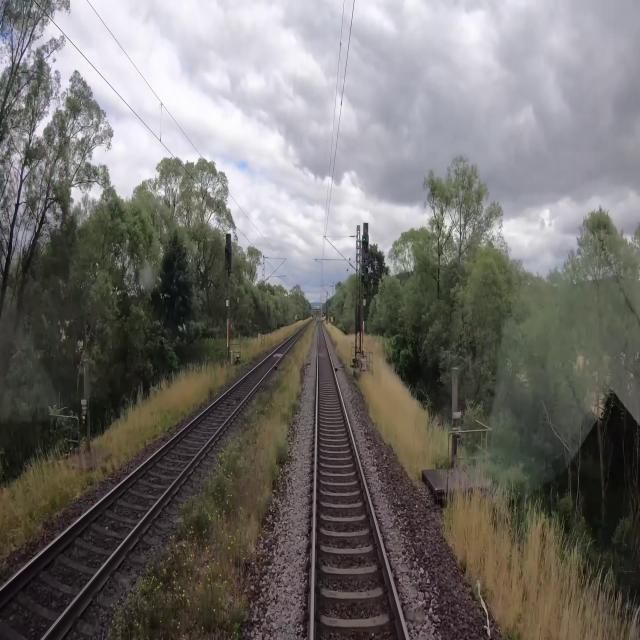Plant: (96, 319, 318, 639)
